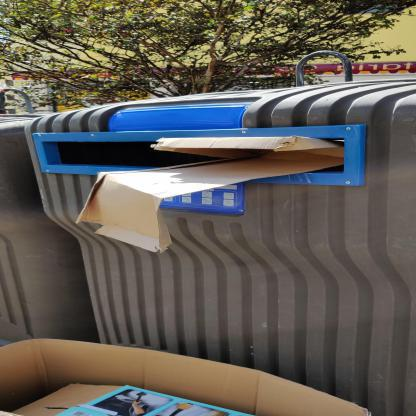karton: (73, 137, 351, 256), (2, 338, 376, 416)
